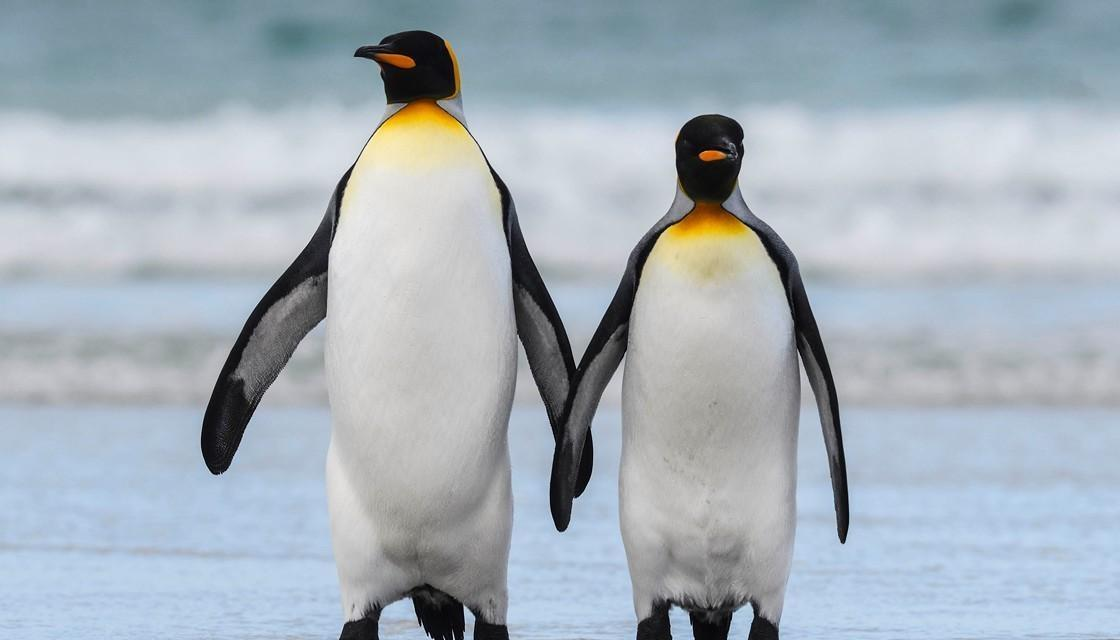Penguin: (202, 32, 593, 639), (551, 114, 848, 639)
